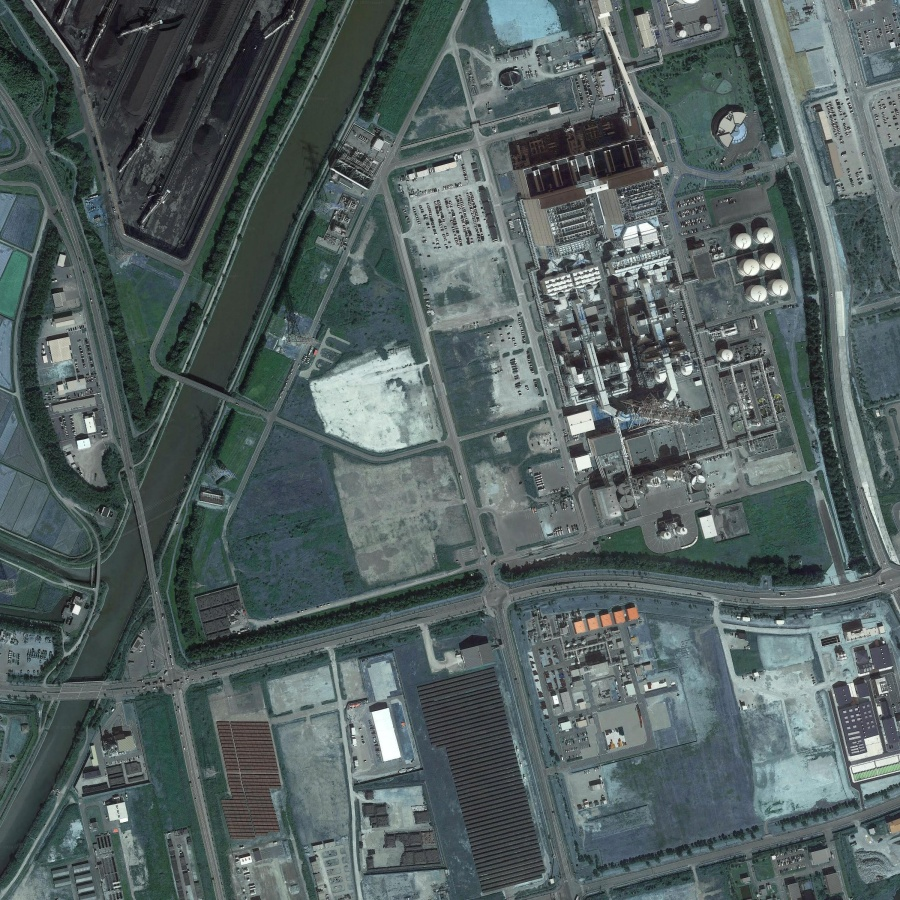PowerPlant: (520, 153, 800, 543)
